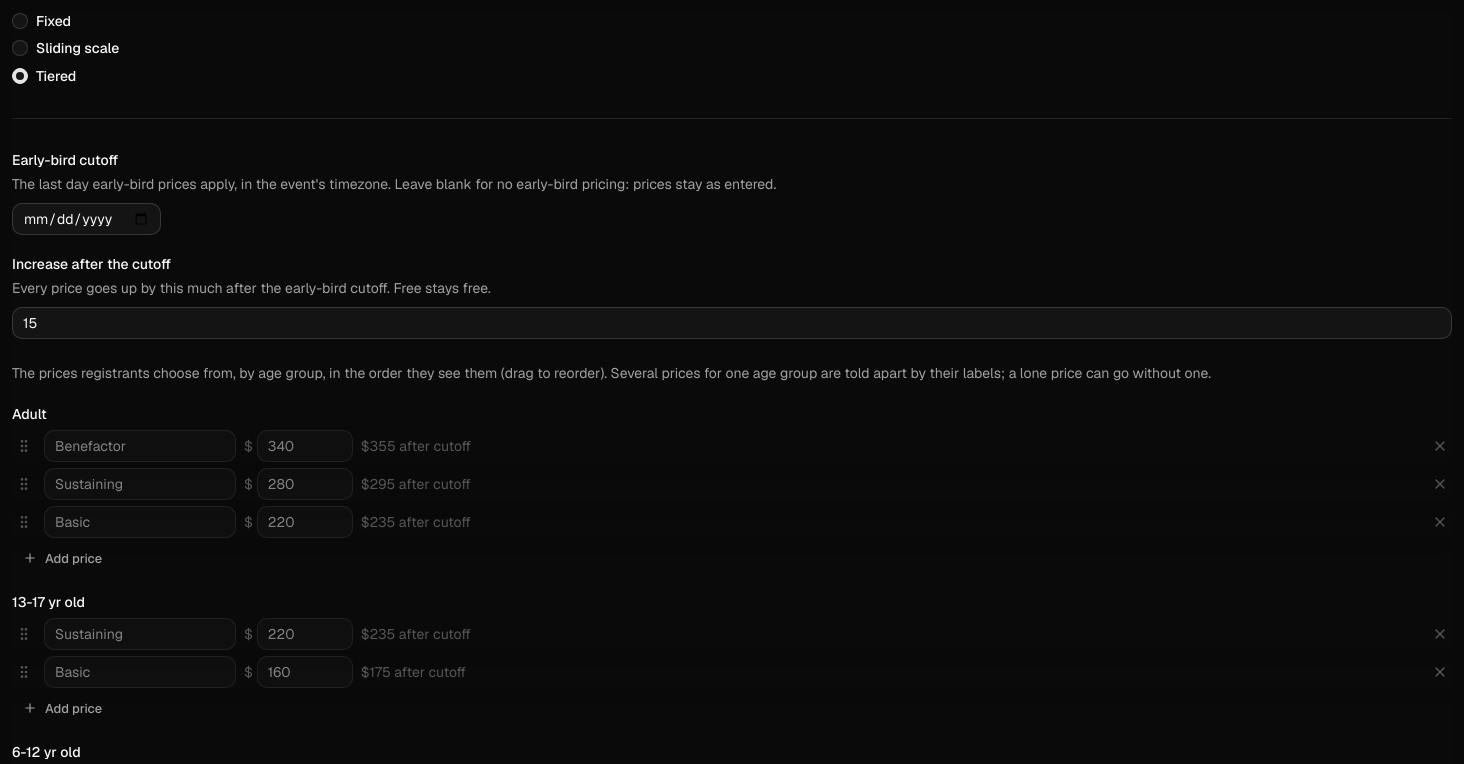
AdmissionsForm › tiered › flags a cleared price and doesn't save it
The image size is (1464, 764).
Clear the number field named "Adult price 1 amount". click: (305, 446)
box: [257, 430, 353, 462]
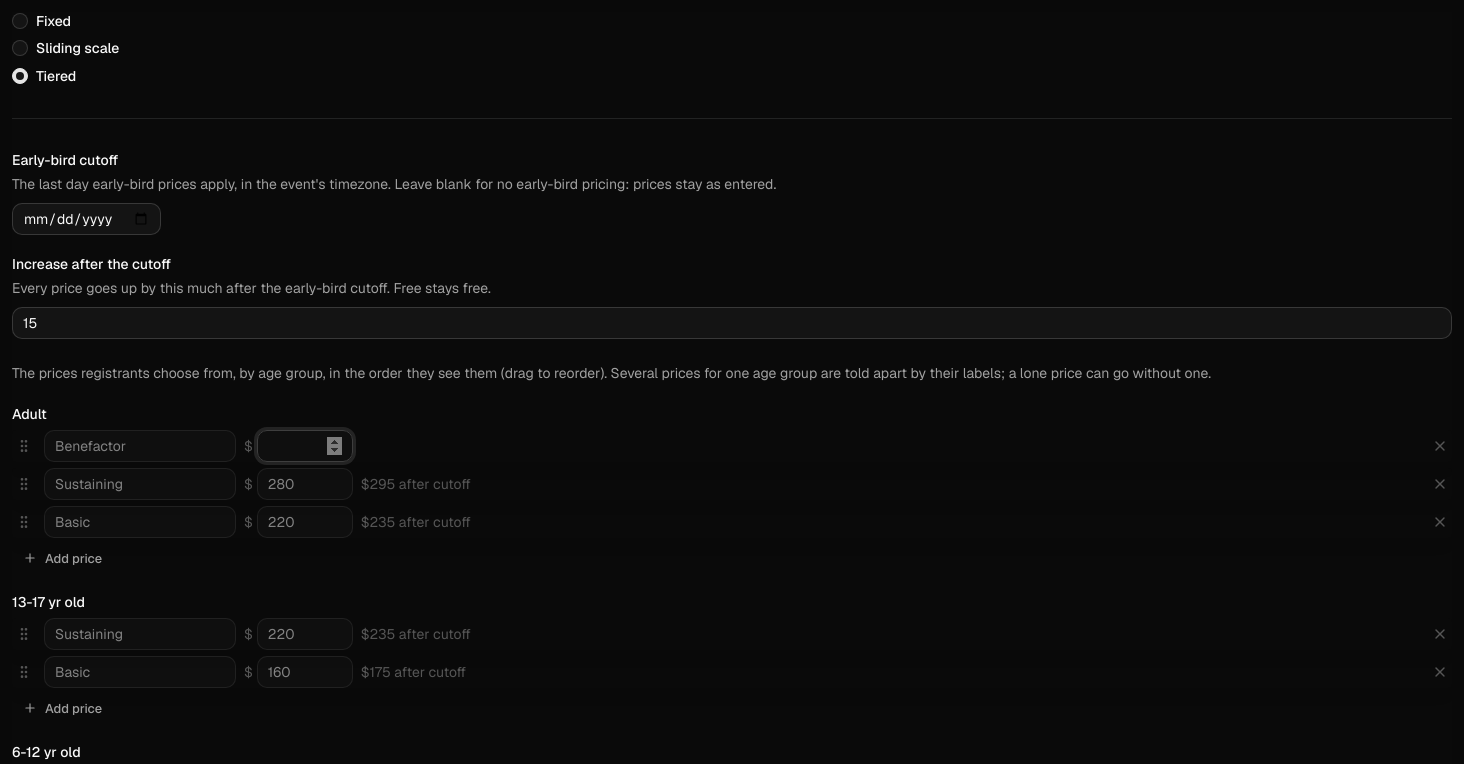
Press Tab
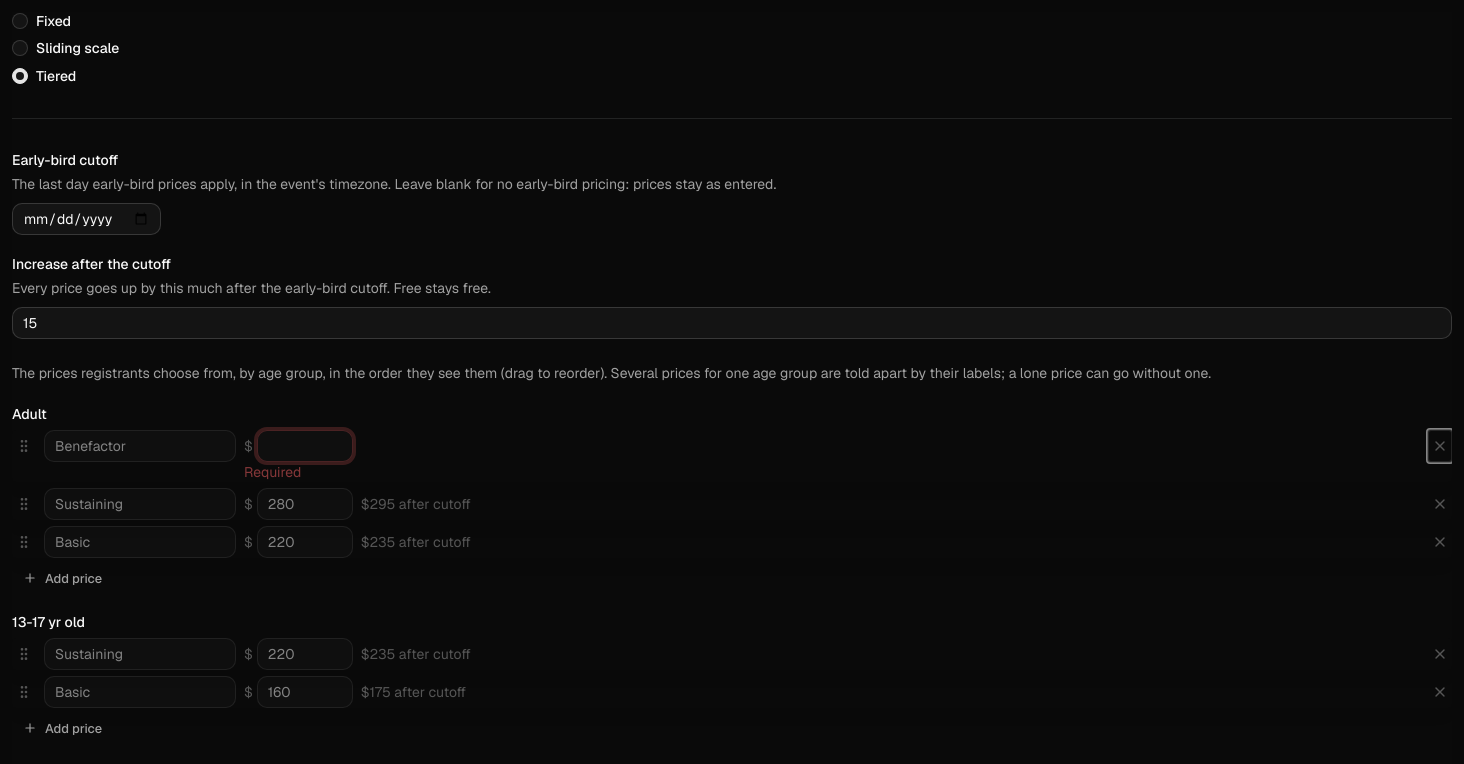
Check: the text "Required" is shown, box [244, 463, 301, 481]
